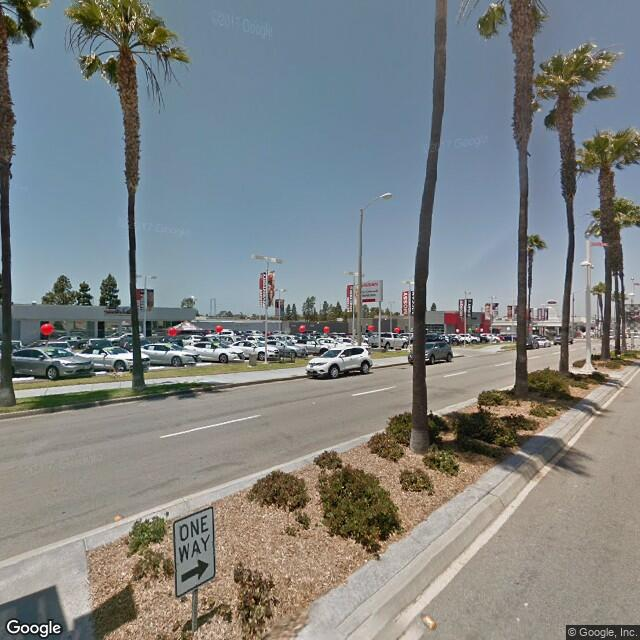litter: (523, 603, 530, 612)
